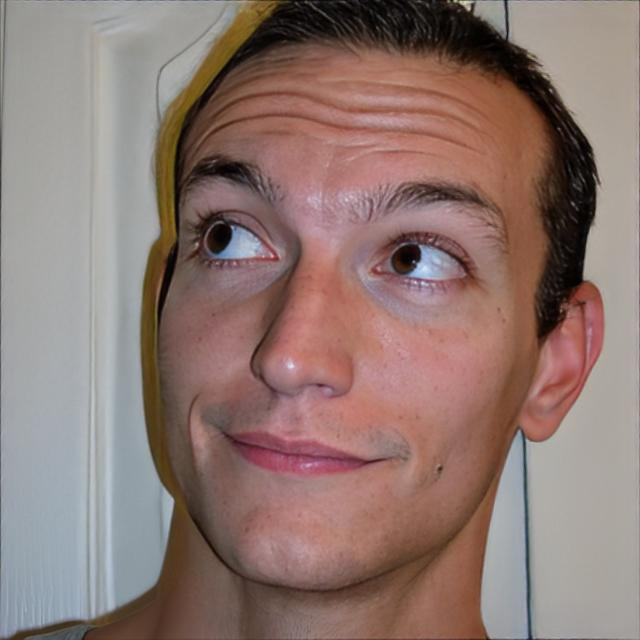content: (155, 36, 550, 596)
